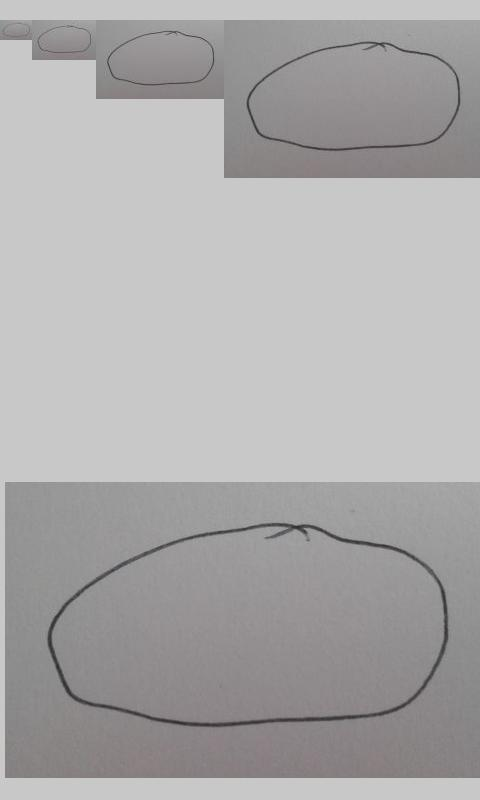chip: (46, 522, 449, 728), (246, 41, 462, 152), (106, 30, 215, 86), (37, 25, 92, 54), (1, 22, 31, 38)
